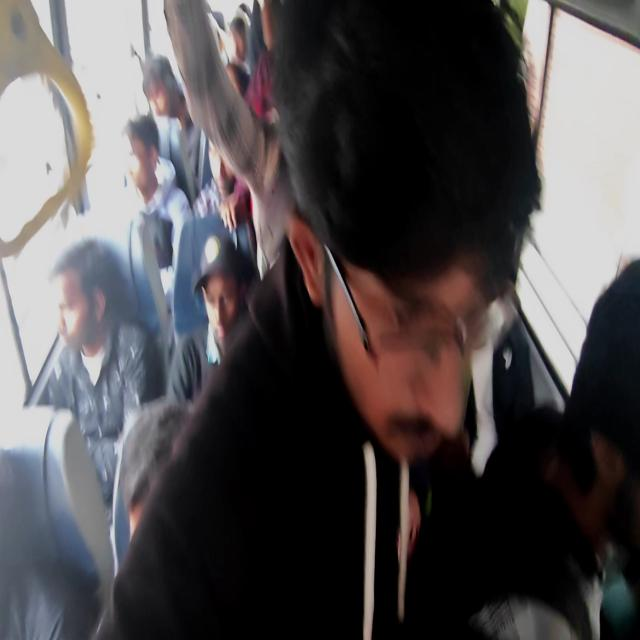person: (110, 1, 542, 637), (403, 257, 639, 638), (37, 237, 165, 520), (163, 0, 290, 279), (136, 51, 238, 232), (166, 232, 260, 405), (123, 113, 193, 269)
